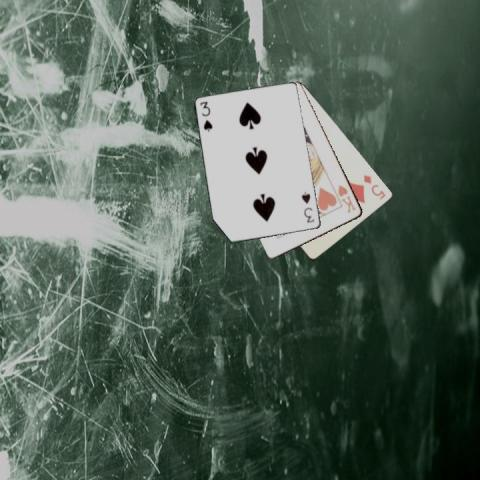3s: (299, 189, 316, 224), (197, 99, 214, 133)
5d: (361, 172, 387, 201)
Kh: (336, 181, 358, 215)
